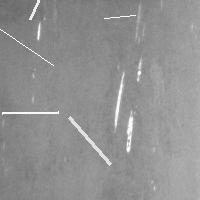scratches: (0, 9, 58, 70), (111, 58, 142, 153), (64, 112, 115, 169), (25, 0, 71, 24), (0, 107, 63, 118), (99, 10, 140, 23), (32, 15, 47, 43)
